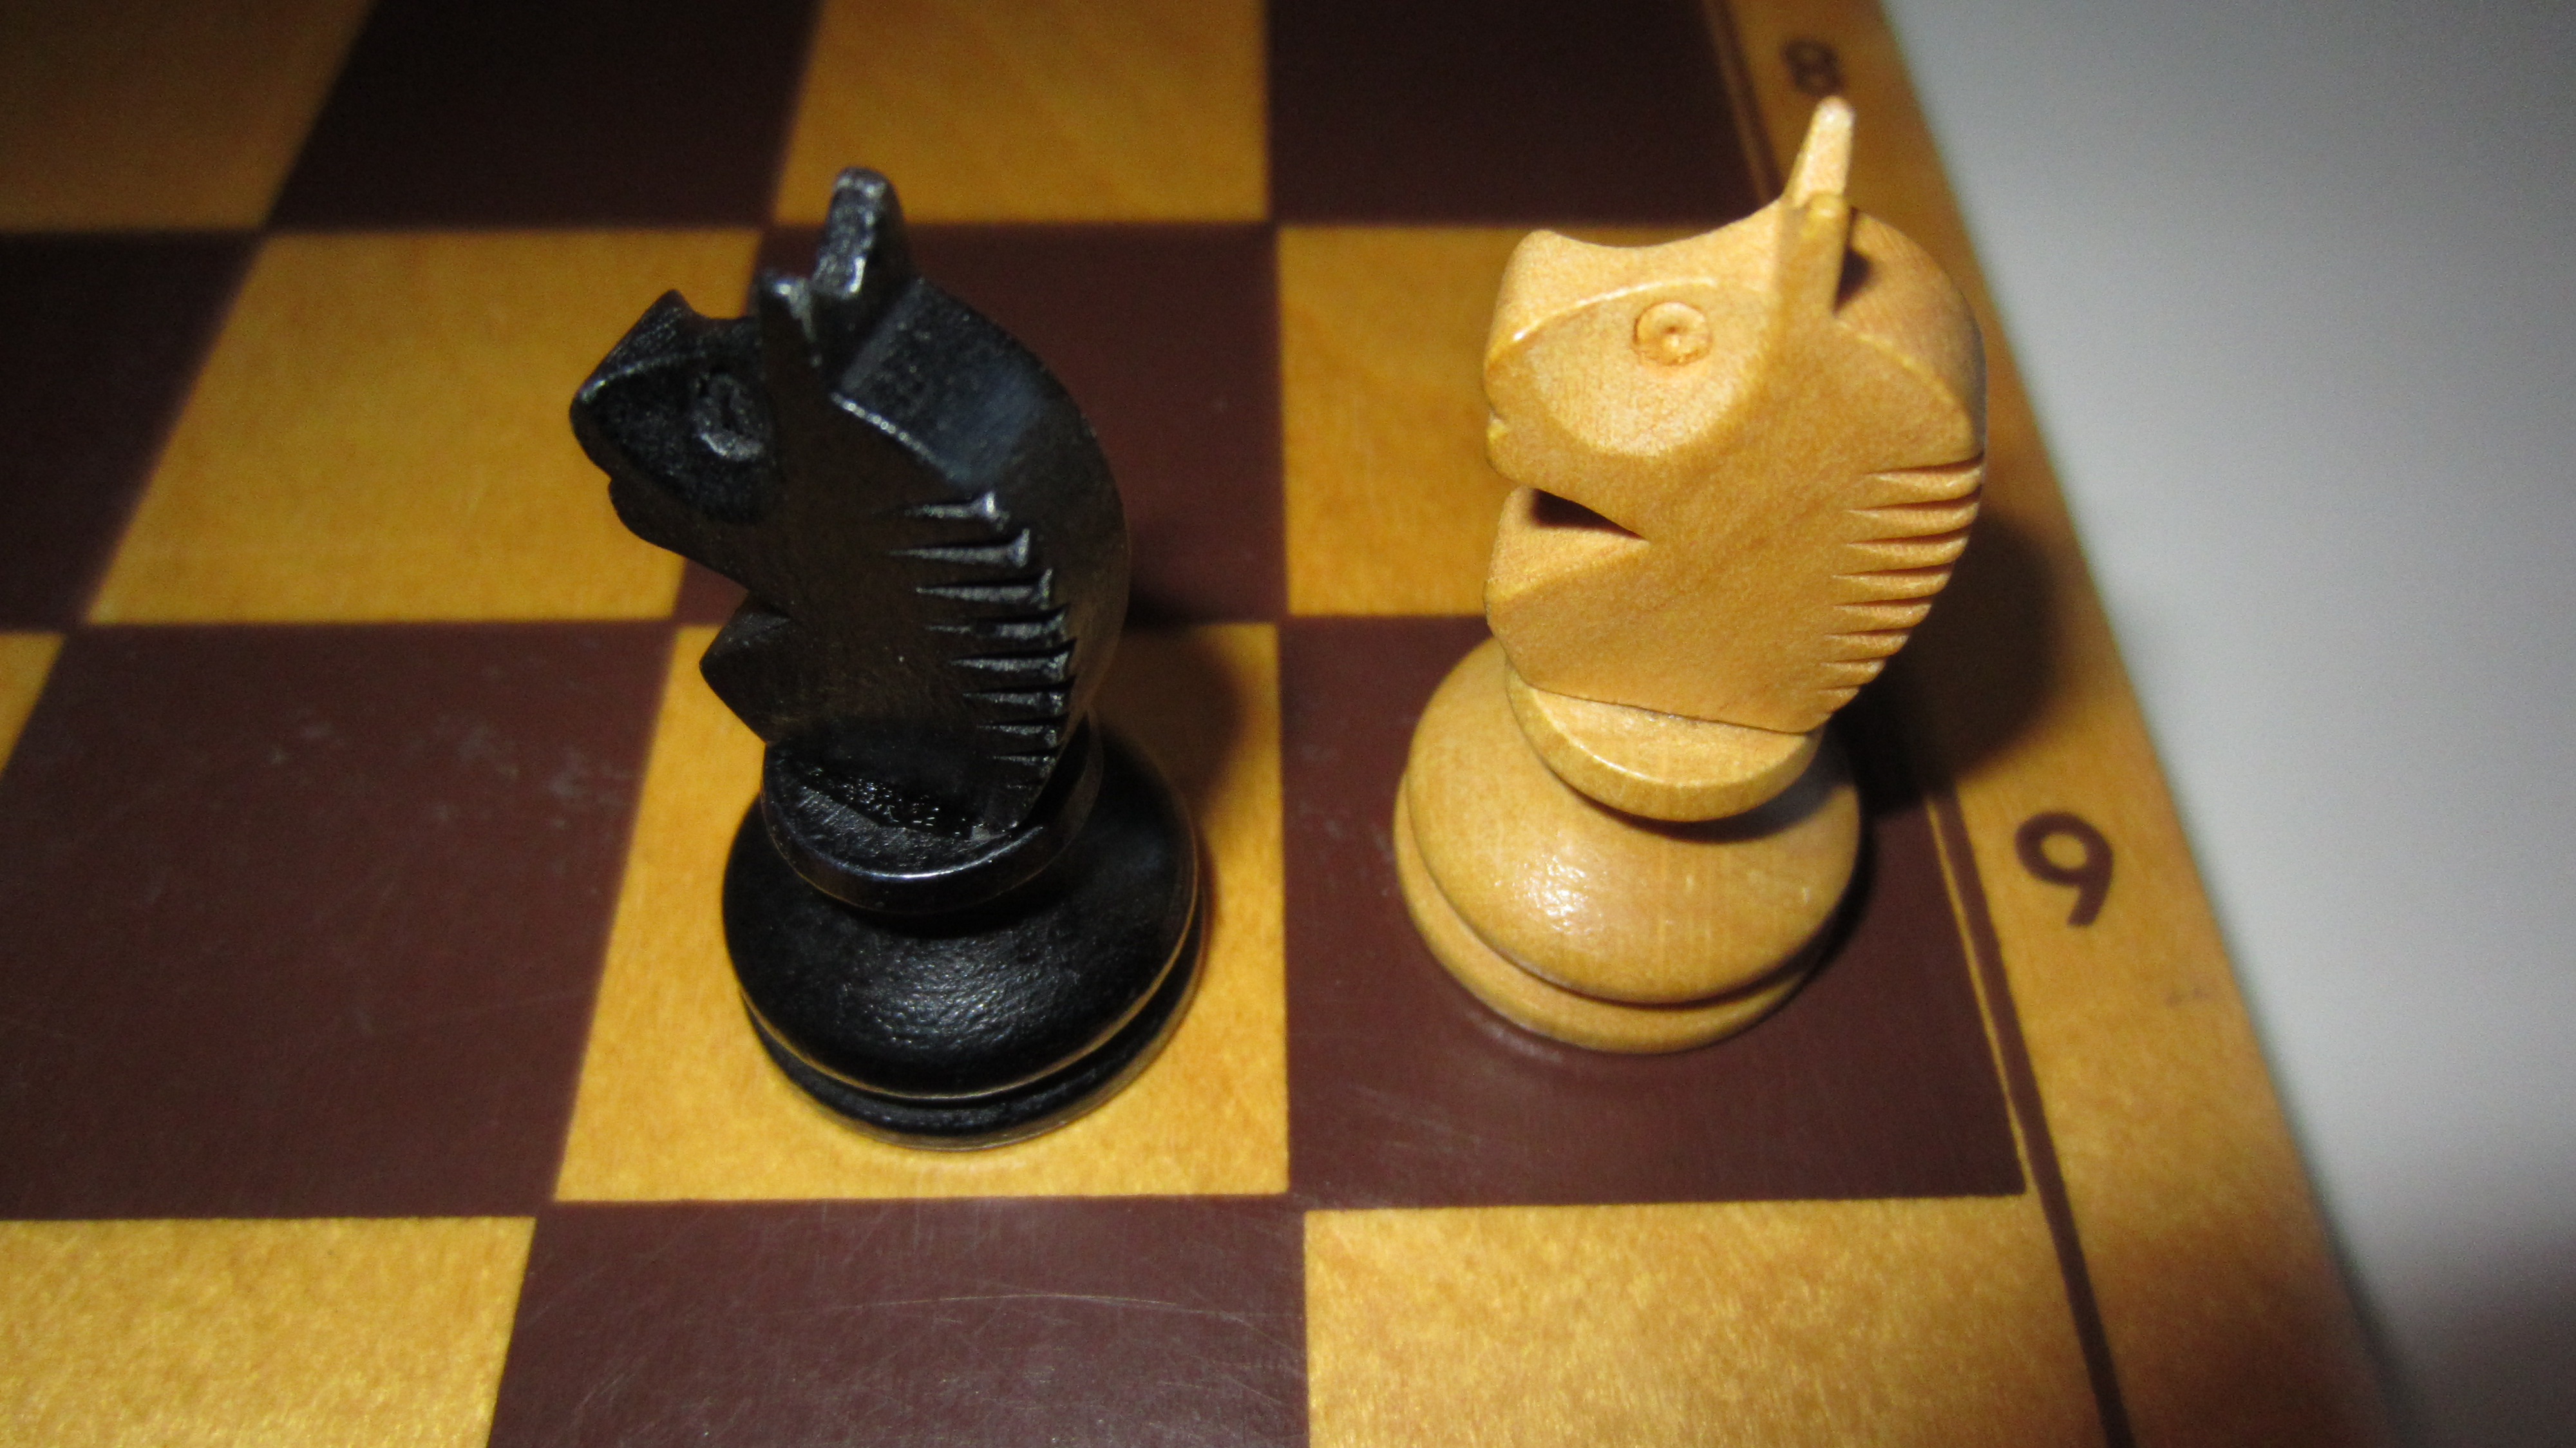black-knight: (557, 158, 1217, 1158)
white-knight: (1384, 96, 1997, 1074)
